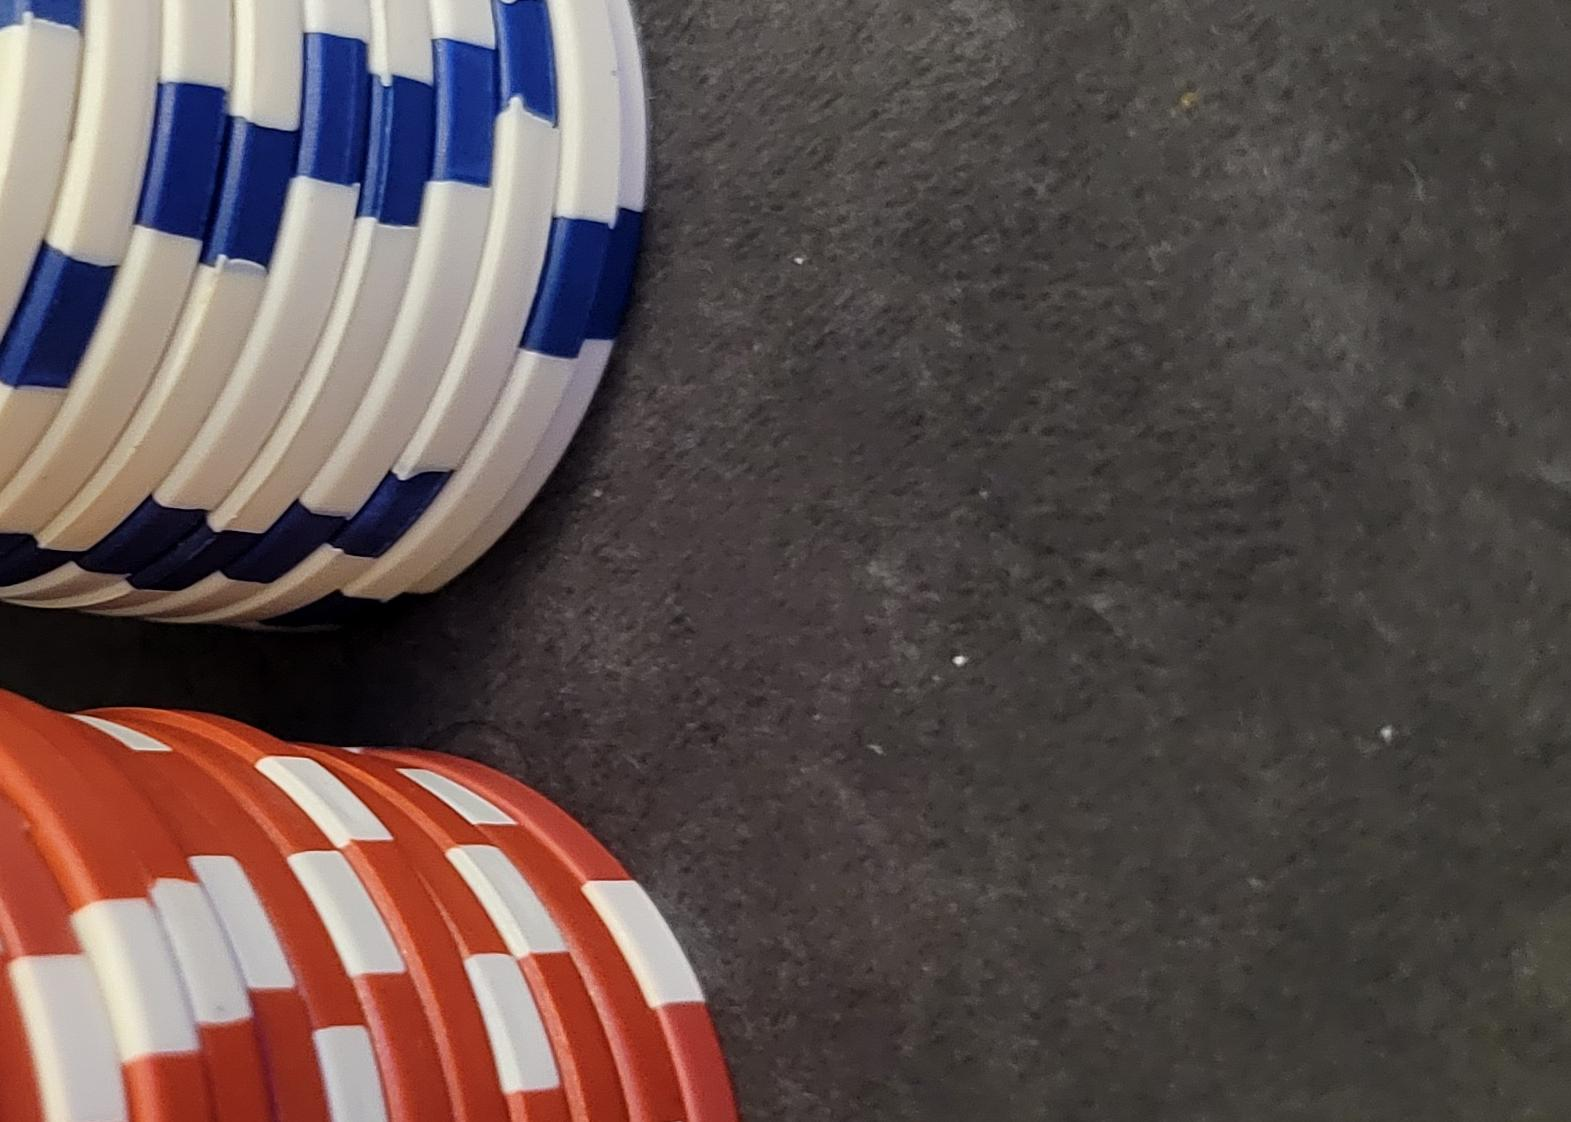Chip: (1, 304, 701, 1122)
